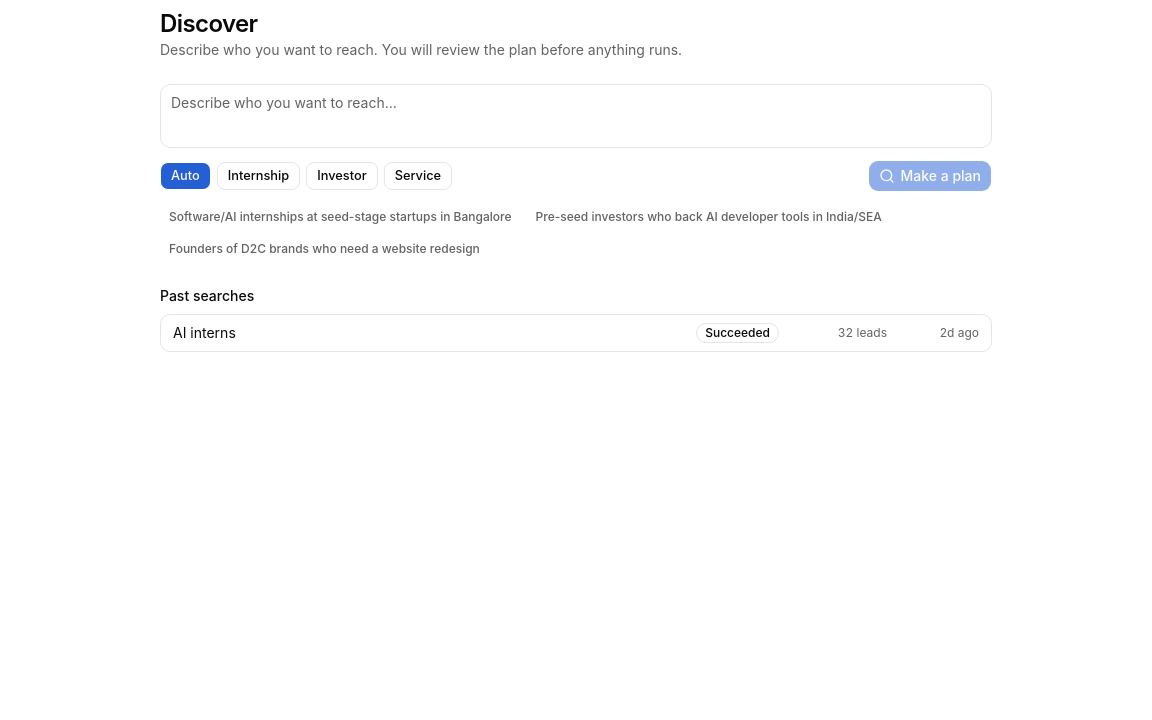
it: DiscoverPage › summarises a finished run and links to its leads
Click the button "AI interns succeeded 32 leads 2d ago" at (204, 332), box [161, 315, 991, 351]
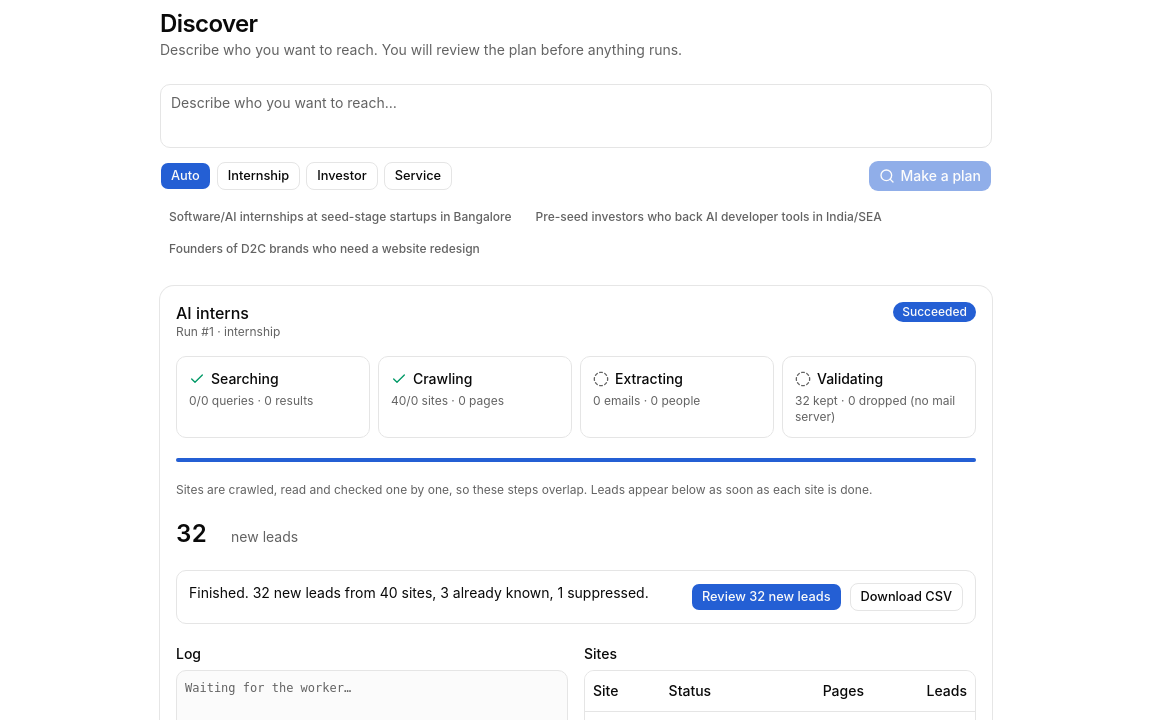
expect the element with test id "run-summary" shows "32 new leads from 40 sites, 3 already known, 1 suppressed": met, box [176, 570, 976, 624]
expect the button "Download CSV" is shown: met, box [850, 583, 963, 611]
